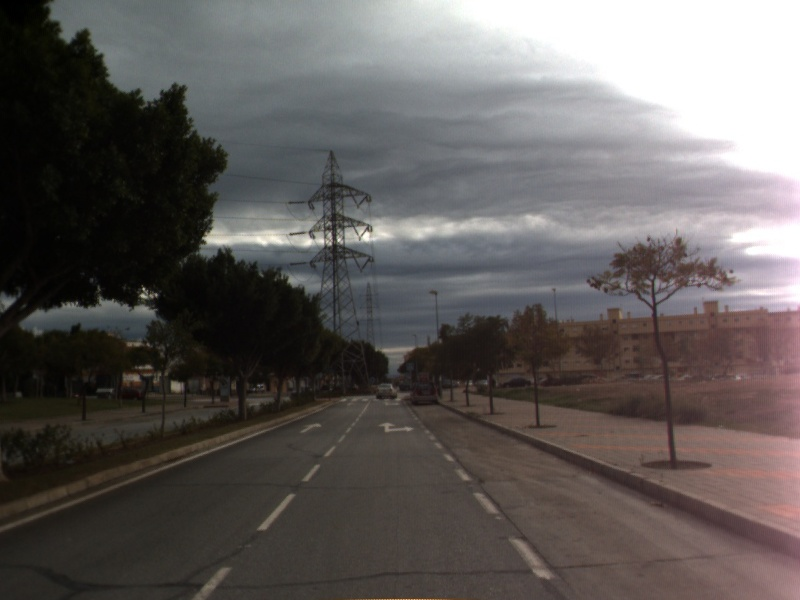STRAIGHT: (297, 420, 324, 435)
STRAIGHT_RIGHT: (376, 420, 417, 434)
